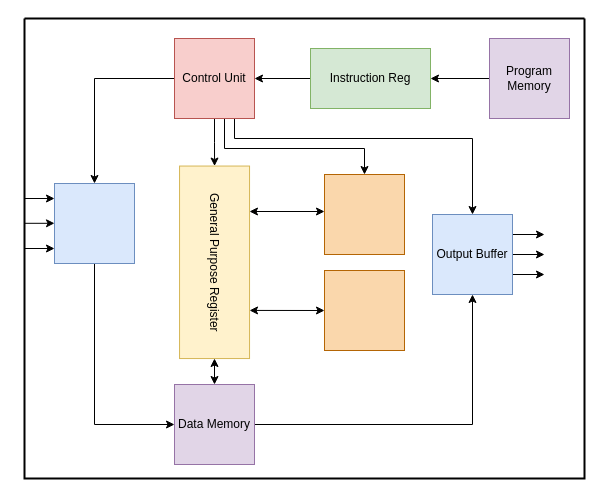
Some shapes in this 603 by 496 pixel diagram are drawn without their labels. The shapes that lost their labels are listed below. From the top down, each one's box as (x1, y1, x2, y2) in pixels, then its label:
(54, 182, 134, 264): Input Buffer
(324, 174, 404, 254): Arithmetic Unit
(324, 270, 404, 350): Logic Unit
